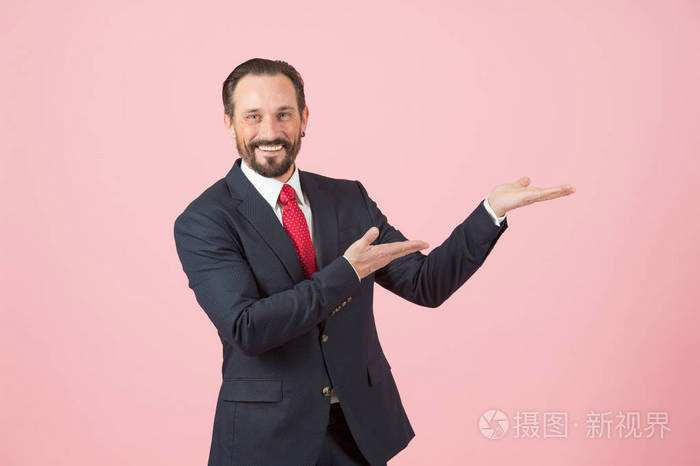no-phone: (344, 224, 430, 276), (489, 175, 578, 213)
